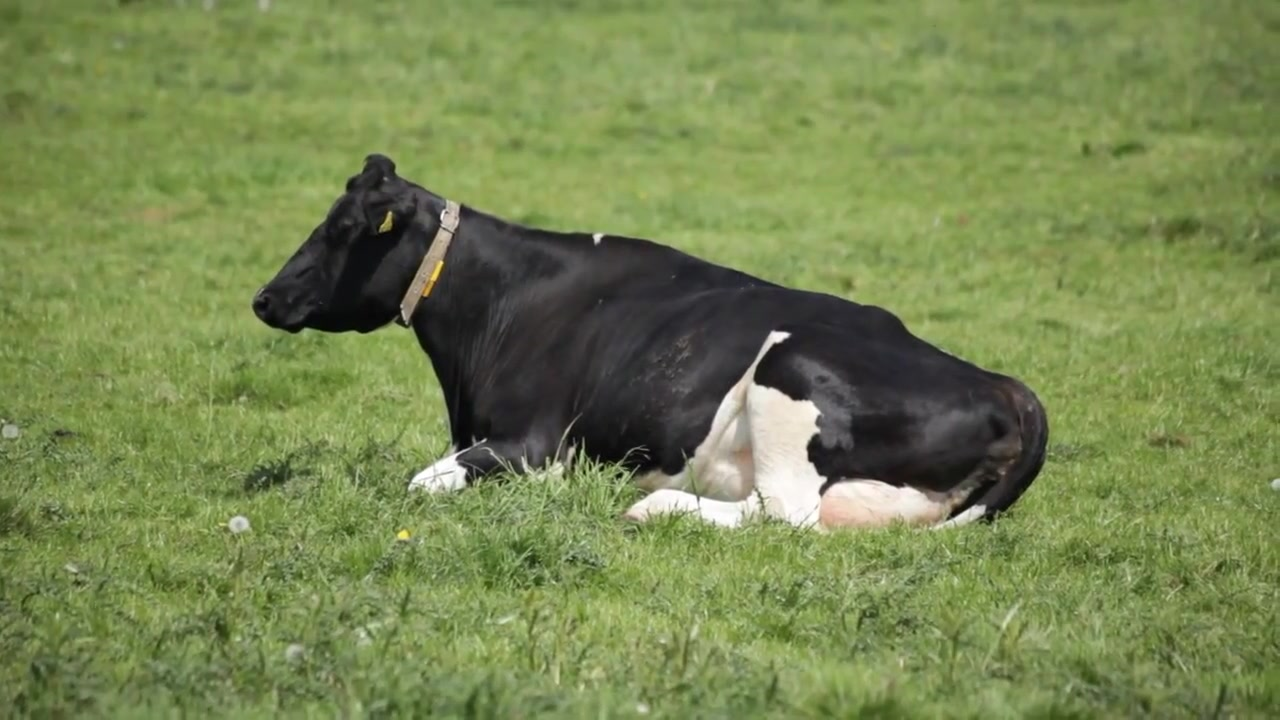cow: (253, 153, 1054, 540)
